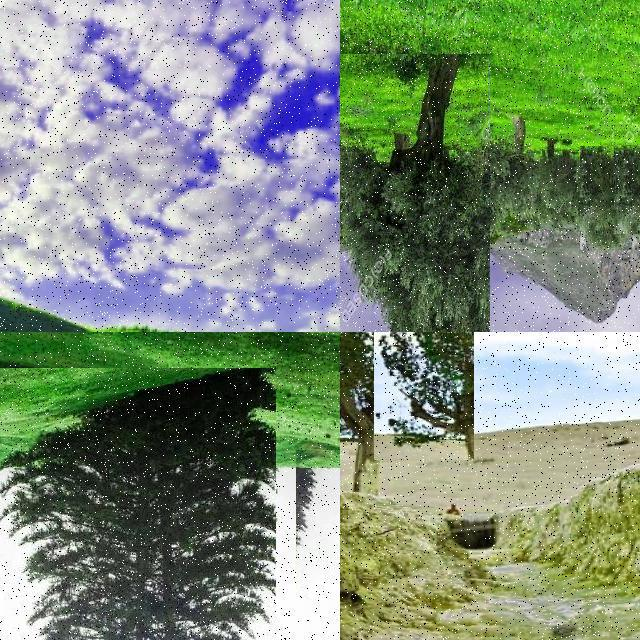tree: (0, 368, 276, 640), (340, 54, 490, 332), (560, 48, 640, 332), (374, 332, 474, 460), (296, 450, 340, 598), (580, 146, 632, 250), (493, 118, 543, 215), (606, 102, 640, 238), (600, 116, 640, 228), (540, 136, 578, 228), (614, 124, 640, 234)
